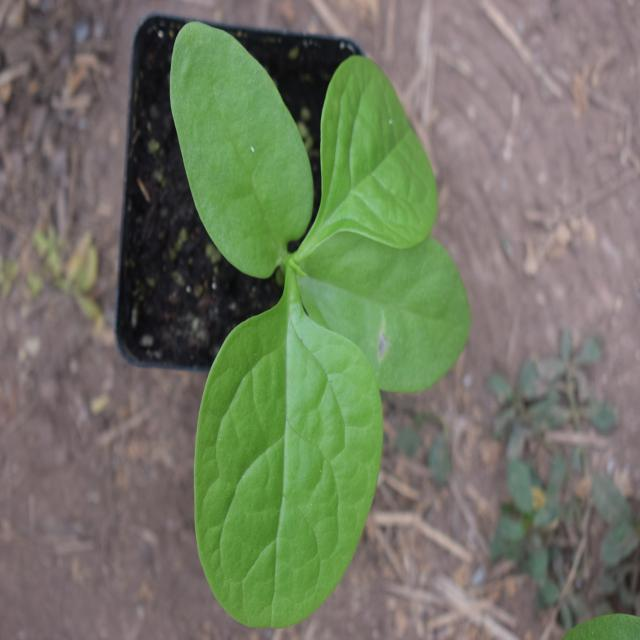Ceylon spinach: (170, 12, 480, 633)
